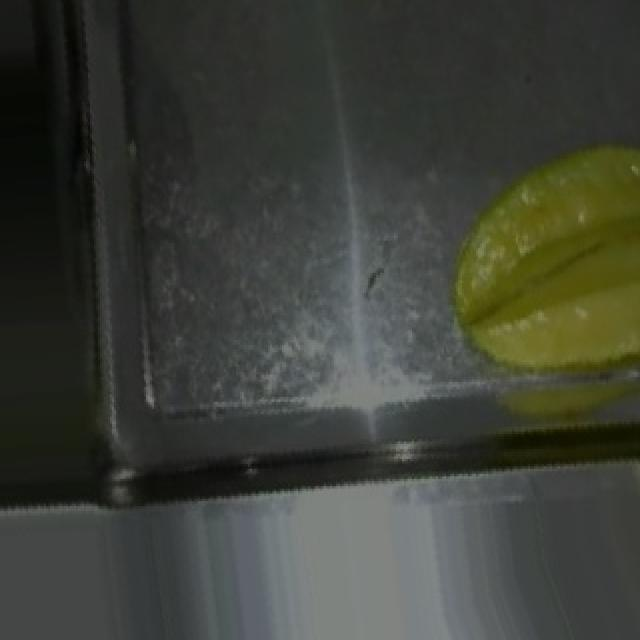fruit: (434, 114, 640, 407)
